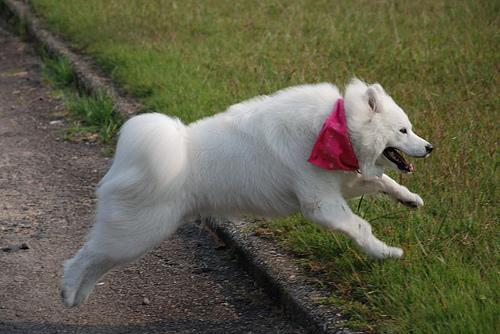dog-samoyed: (358, 81, 431, 173)
